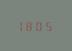eight: (27, 20, 35, 31)
five: (45, 20, 53, 31)
one: (18, 20, 26, 31)
zero: (36, 20, 44, 31)
